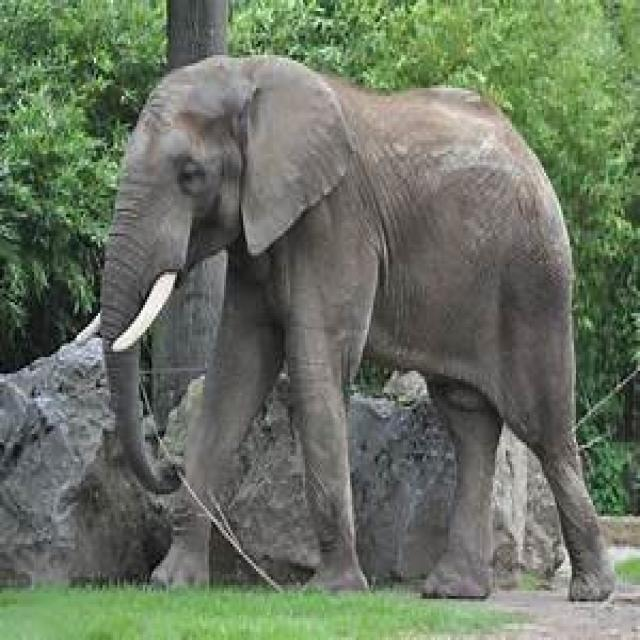elephant: (92, 55, 614, 602)
